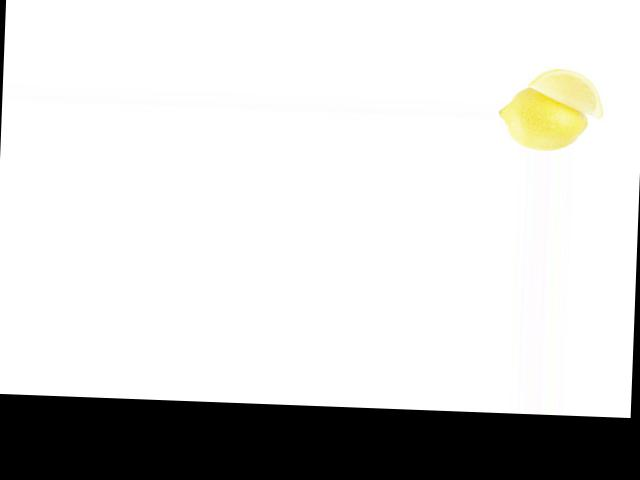lemon: (495, 84, 594, 151)
